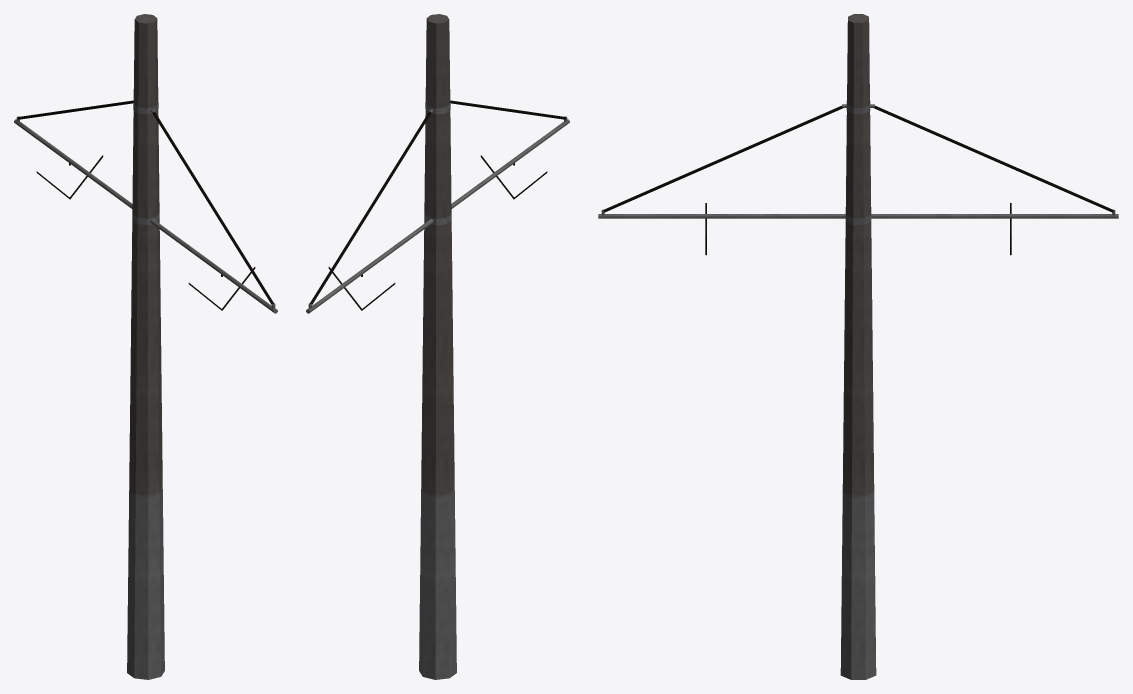
The model's file is pole_d.obj.
3 views of the same model, side by side, from view 1: azimuth 30°, elevation 25°; view 2: azimuth 150°, elevation 25°; view 3: azimuth 270°, elevation 25° (orthographic).
Parts seen in each view (by area): view 1: RAIL_BASE; view 2: RAIL_BASE; view 3: RAIL_BASE.
Boxes of the visible parts, <box> form: RAIL_BASE: <box>14,14,277,679</box>; RAIL_BASE: <box>306,14,569,679</box>; RAIL_BASE: <box>598,14,1118,679</box>.
Size of the model in its own units: 1 by 9.47 by 6.83.
Materials: 2 (2 with a texture image).
